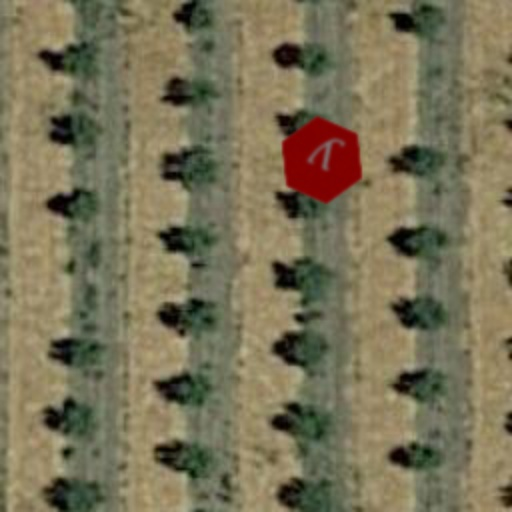hexagon: (262, 100, 382, 220)
